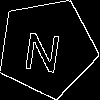N: (22, 23, 64, 73)
